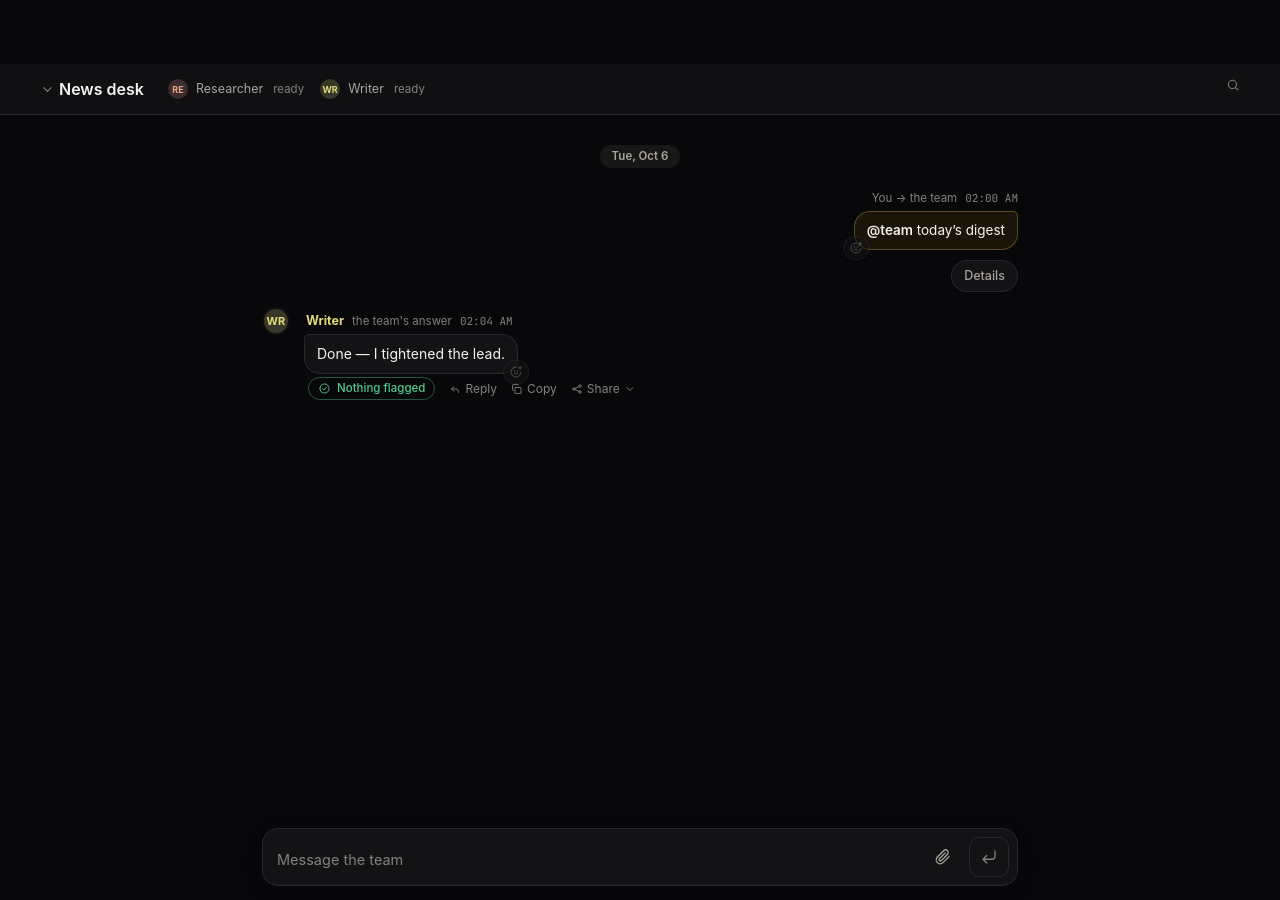
Test case: the team’s chat › puts the answer’s status and what you do with it under the answer
This screenshot has width=1280, height=900.
Check: the button "Nothing flagged" is shown, box [308,377,435,400]
Check: the button "Copy" is shown, box [511,378,557,400]
What coordinates should you click on to do the following:
click the button "Share"
I would click on:
 (603, 389)
Its box is [571,378,636,400].
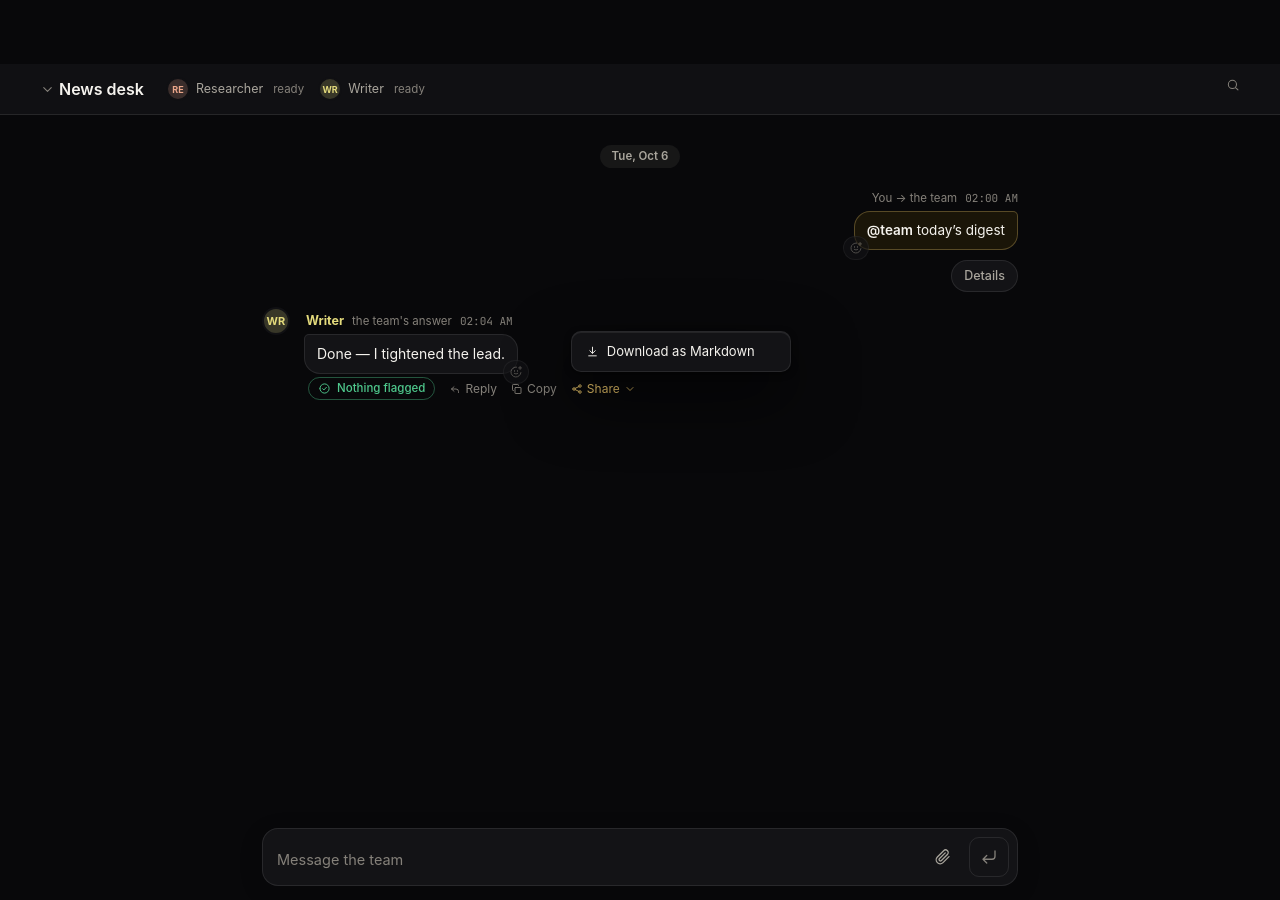
Check: the button "Download as Markdown" is shown, box [576,336,786,367]
